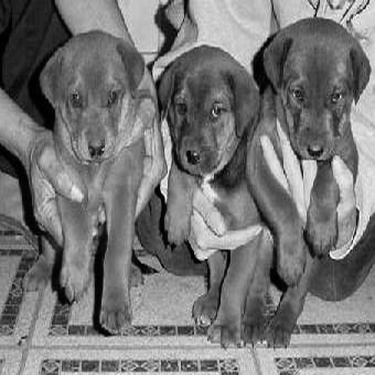dog: (20, 25, 170, 337), (239, 16, 370, 350), (147, 44, 265, 357)
